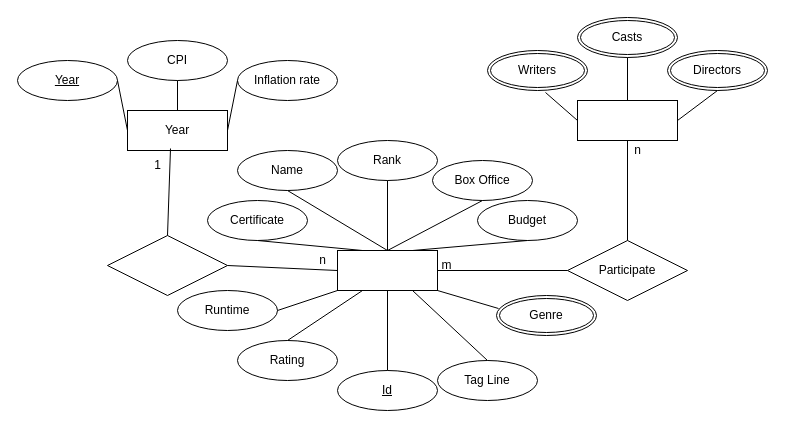
The diagram is 785 pixels wide and 436 high, and some of its shapes have lost their labels. The shapes that lost their labels are listed below. From the top down, each one's centre as x and y in pixels, then its label:
At point (627, 120): "Crew".
At point (167, 265): "Released In".
At point (387, 270): "Movie".
